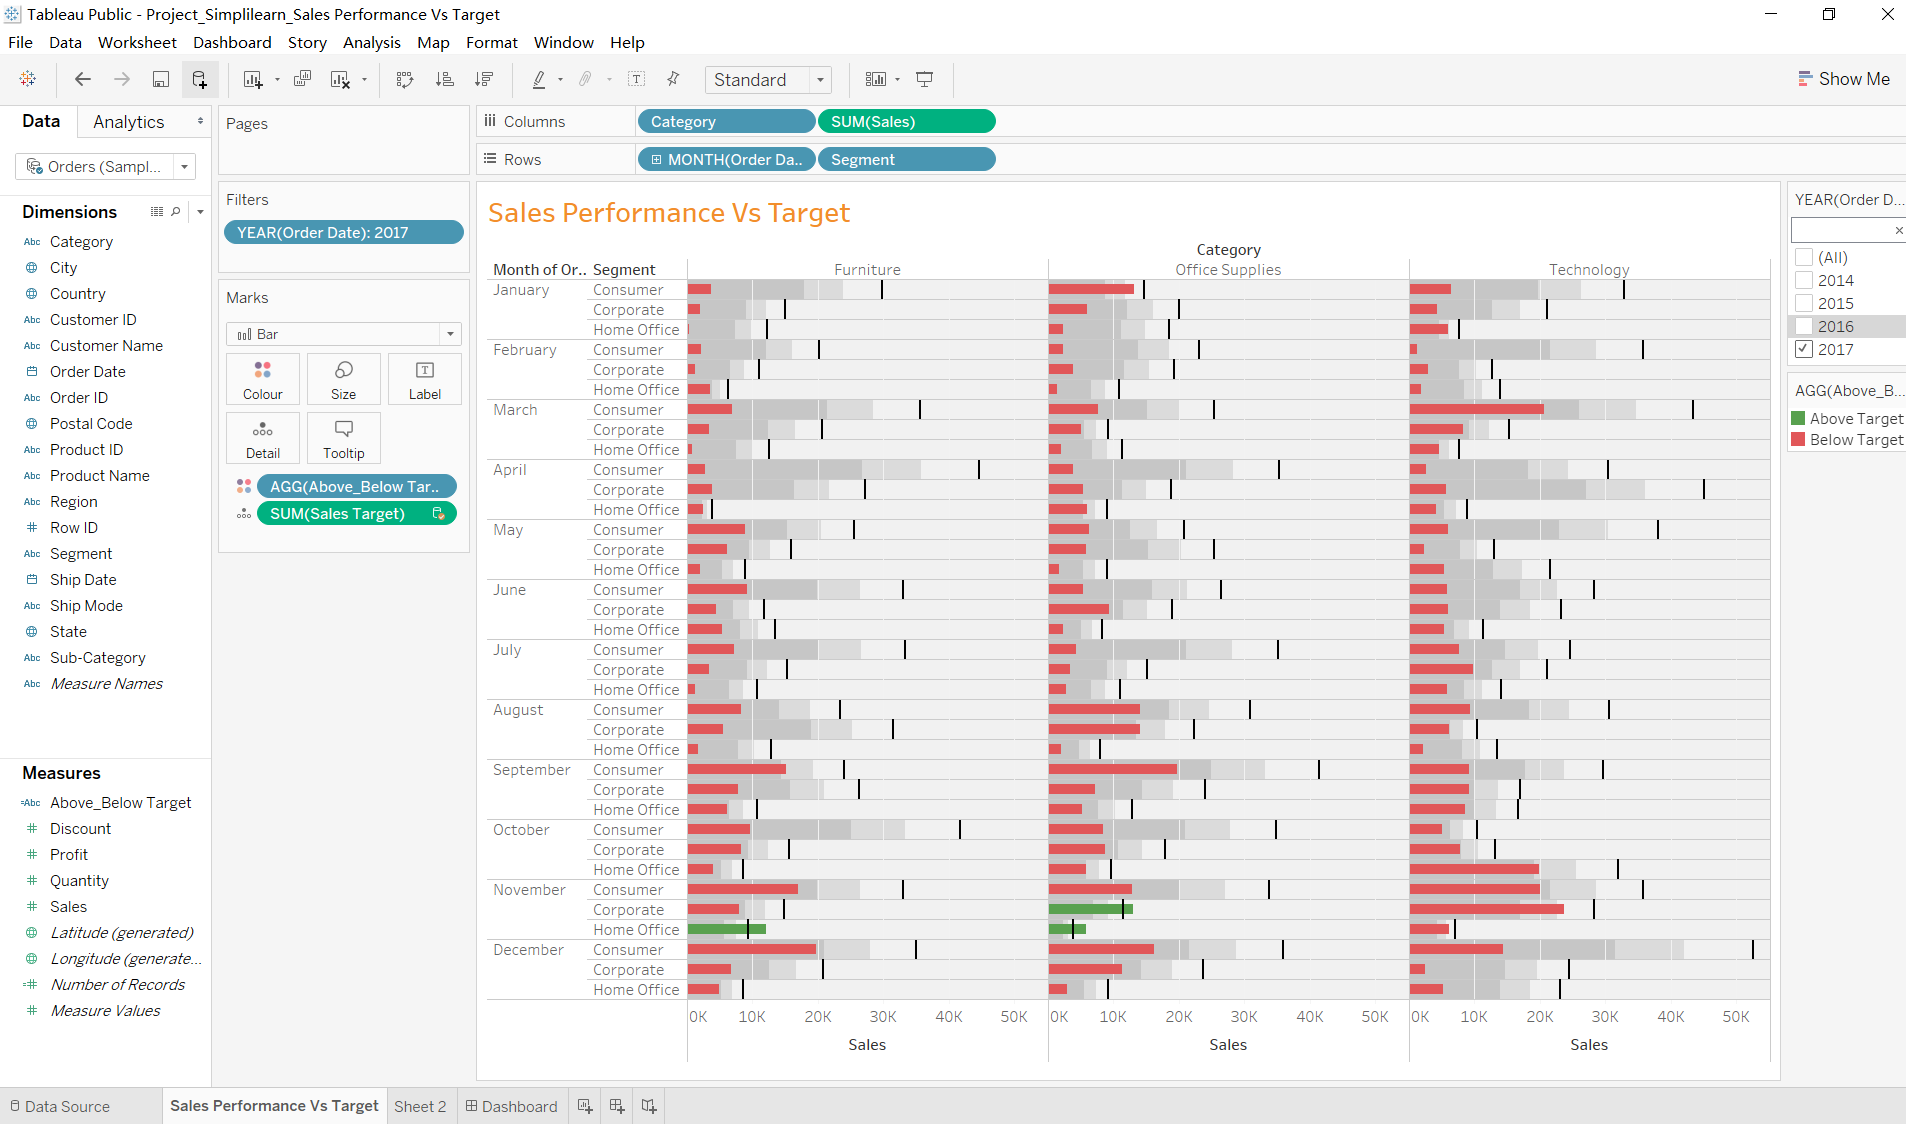

Layout of this report page (visuals, bound fields, positions):
{"tool":"tableau","page":{"name":"Dashboard","canvas":[1000,1000],"units":"permille","ordinal":0},"visuals":[{"type":"text","box":[6.9,13.5,781.2,69.2]},{"type":"image","param":"Image/download.png","box":[788.1,13.5,204.9,69.2]},{"type":"worksheet","title":"Sales Performance Vs Target","mark":"Bar","rows":["Order Date","Segment"],"cols":["Category","Sales"],"box":[6.9,82.8,847.6,903.7]},{"type":"filter","title":"Sales Performance Vs Target","param":"[federated.1vej98212y7seo1glazh10h0bvvd].[yr:Order Date:ok]","box":[854.5,82.8,138.5,214.5]},{"type":"legend","title":"Sales Performance Vs Target","param":"[federated.1vej98212y7seo1glazh10h0bvvd].[usr:Calculation_350436387820167169:nk]","box":[854.5,297.3,138.5,111.5]}]}

Visuals, with their boxes on the dashboard's canvas, which has no fixed pixel size, in thousandths of its width and height (x1, y1, x2, y2). These are canvas units, not pixel positions in the 1906x1124 screenshot, which may show the page scaled, cropped or inside an application window:
text: {"left": 7, "top": 14, "right": 788, "bottom": 83}
image: {"left": 788, "top": 14, "right": 993, "bottom": 83}
"Sales Performance Vs Target" worksheet (Bar marks): {"left": 7, "top": 83, "right": 854, "bottom": 986}
"Sales Performance Vs Target" filter: {"left": 854, "top": 83, "right": 993, "bottom": 297}
"Sales Performance Vs Target" legend: {"left": 854, "top": 297, "right": 993, "bottom": 409}
